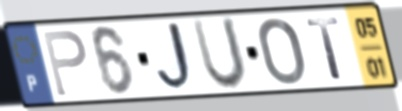6: (90, 24, 137, 98)
J: (155, 19, 200, 95)
O: (255, 15, 308, 88)
P: (40, 28, 90, 99)
T: (303, 15, 346, 82)
U: (188, 15, 250, 93)
